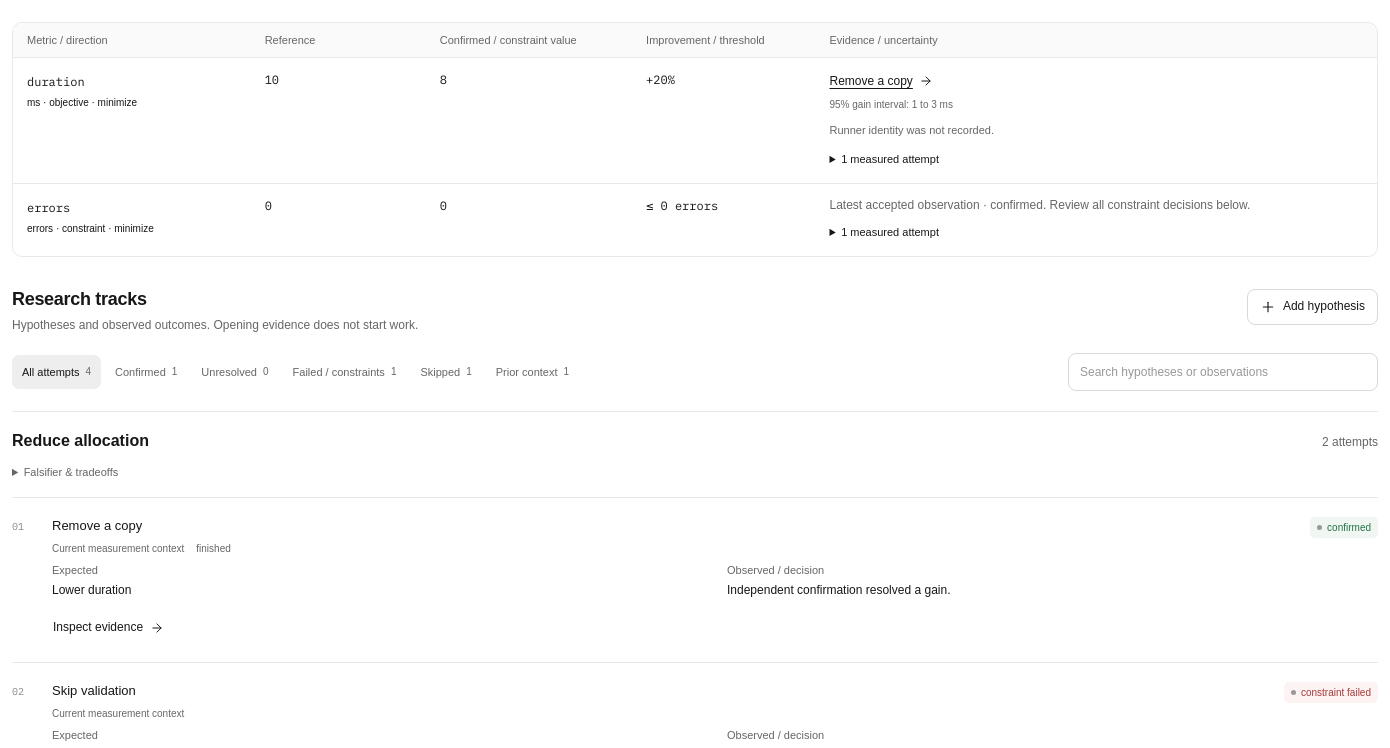
Test: filters failed and historical attempts without treating old confirmations as current wins
(page scrolled)
Step 1. Click the button "Failed / constraints 1" → (344, 372), box x1=282 y1=355 x2=406 y2=389
(page scrolled)
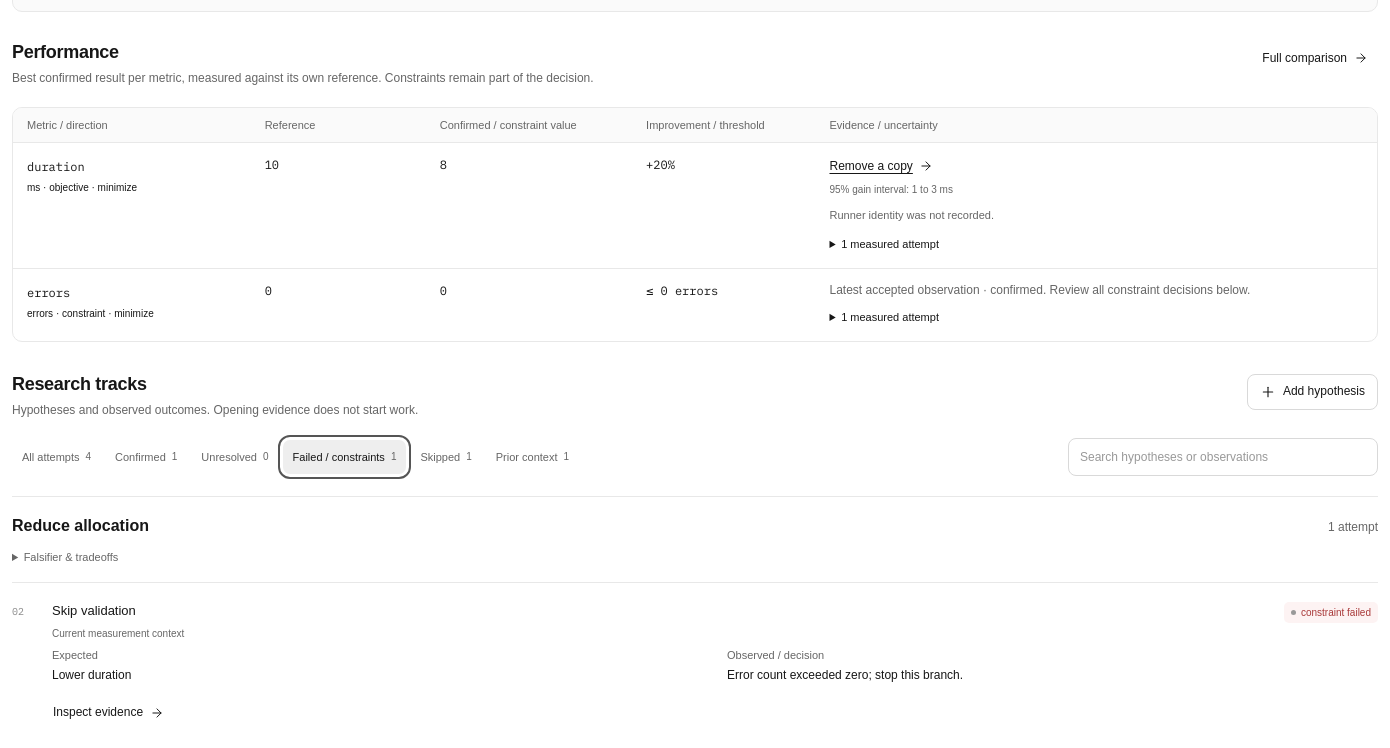
Expected: the button "Skip validation" is shown, x1=52 y1=601 x2=136 y2=622
Expected: the text "Error count exceeded zero; stop this branch." is shown, x1=727 y1=668 x2=963 y2=682
Step 2. Click the button "Confirmed 1" → (146, 457), box x1=105 y1=440 x2=187 y2=474
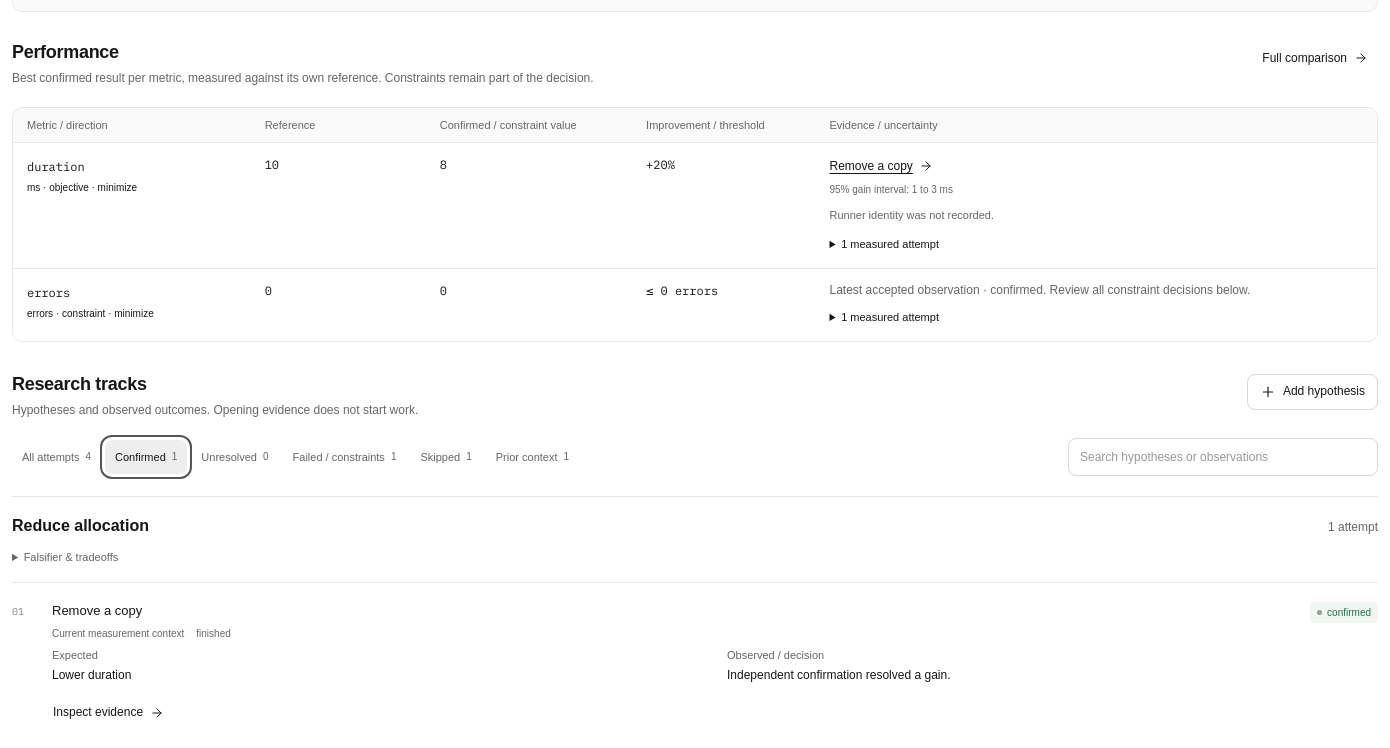
Expected: the button "Historical candidate" is not shown
Result: the button "Remove a copy" next to "01" is shown at x1=52 y1=601 x2=142 y2=622
Step 3. Click the button "Prior context 1" → (532, 457), box x1=486 y1=440 x2=579 y2=474
(page scrolled)
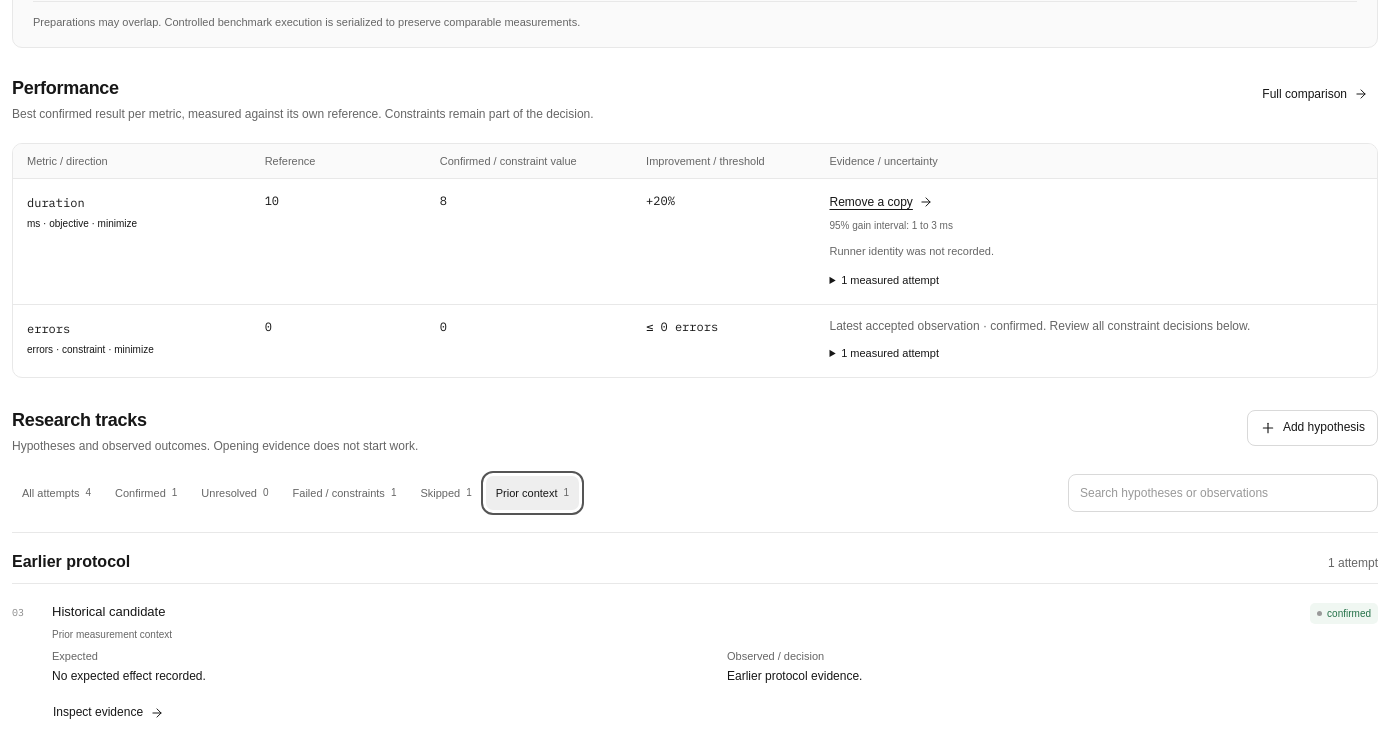
Result: the button "Historical candidate" is shown at x1=52 y1=602 x2=166 y2=622
Result: the text "Prior measurement context" is shown at x1=52 y1=629 x2=172 y2=640
